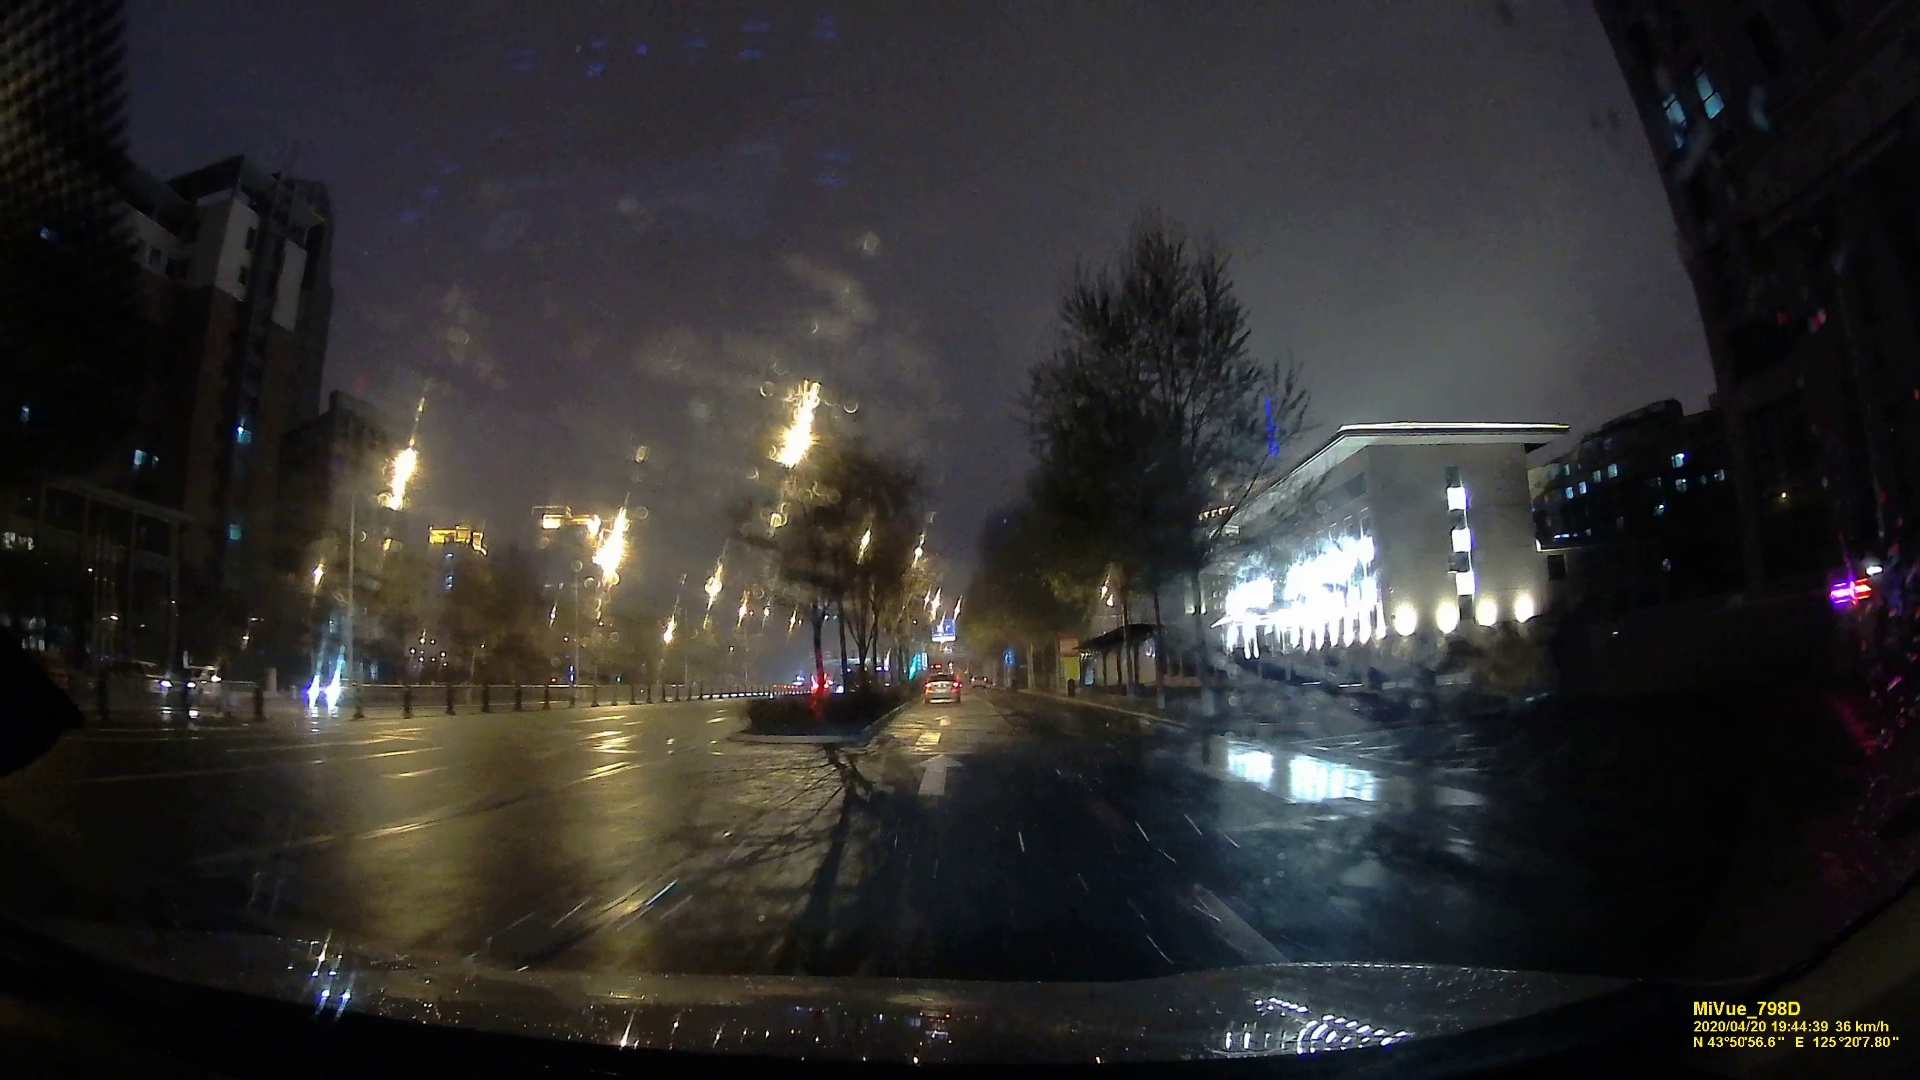vehicle: (305, 675, 357, 703), (926, 674, 963, 704)
